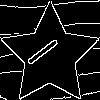I: (25, 30, 68, 68)
